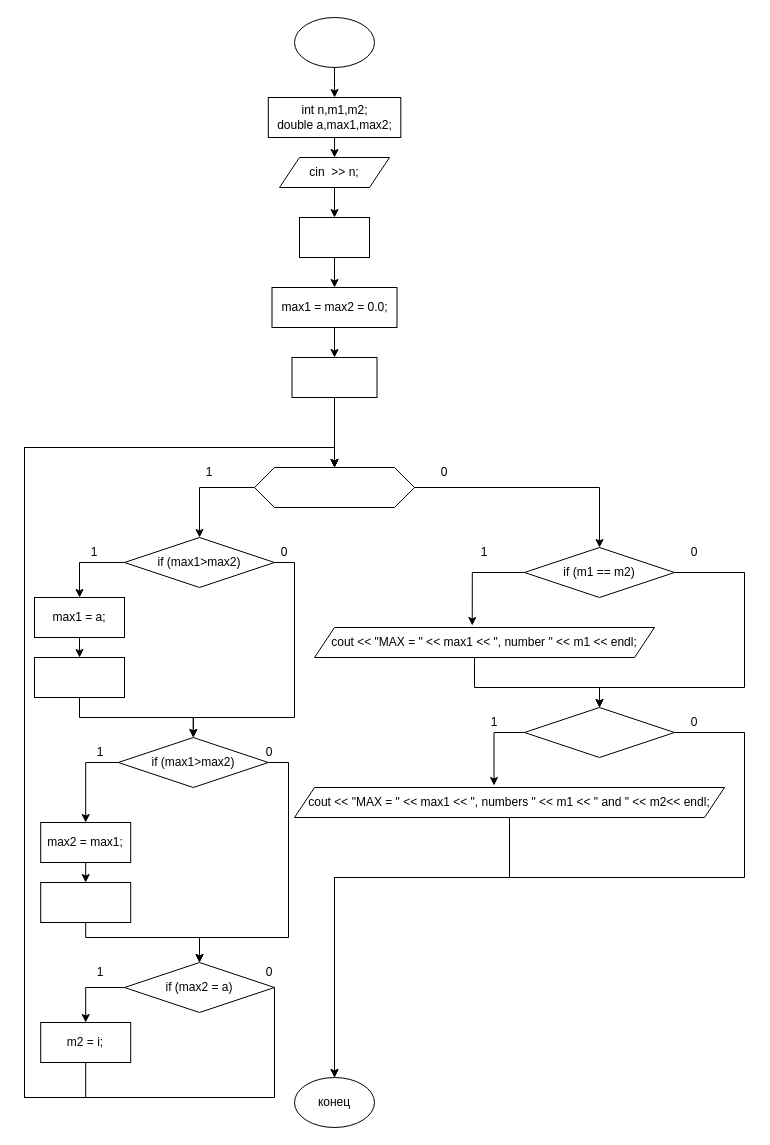
Image size: 770x1145. Some labels were removed from this diagram. Each missing label, with the centre of its shape:
a = 0.0;: the point at 334,237
for (int i=0; i<=1000; i++): the point at 334,487
if (m1 != m2): the point at 599,732
m1 = i;: the point at 79,677
m1 = m2 = 0;: the point at 334,377
m2 = m1;: the point at 85,902
начало: the point at 334,42
